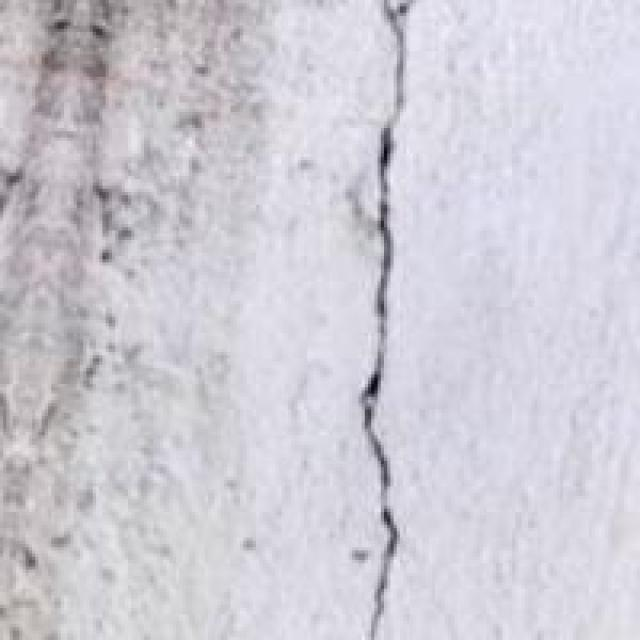Crack: (295, 0, 458, 621)
